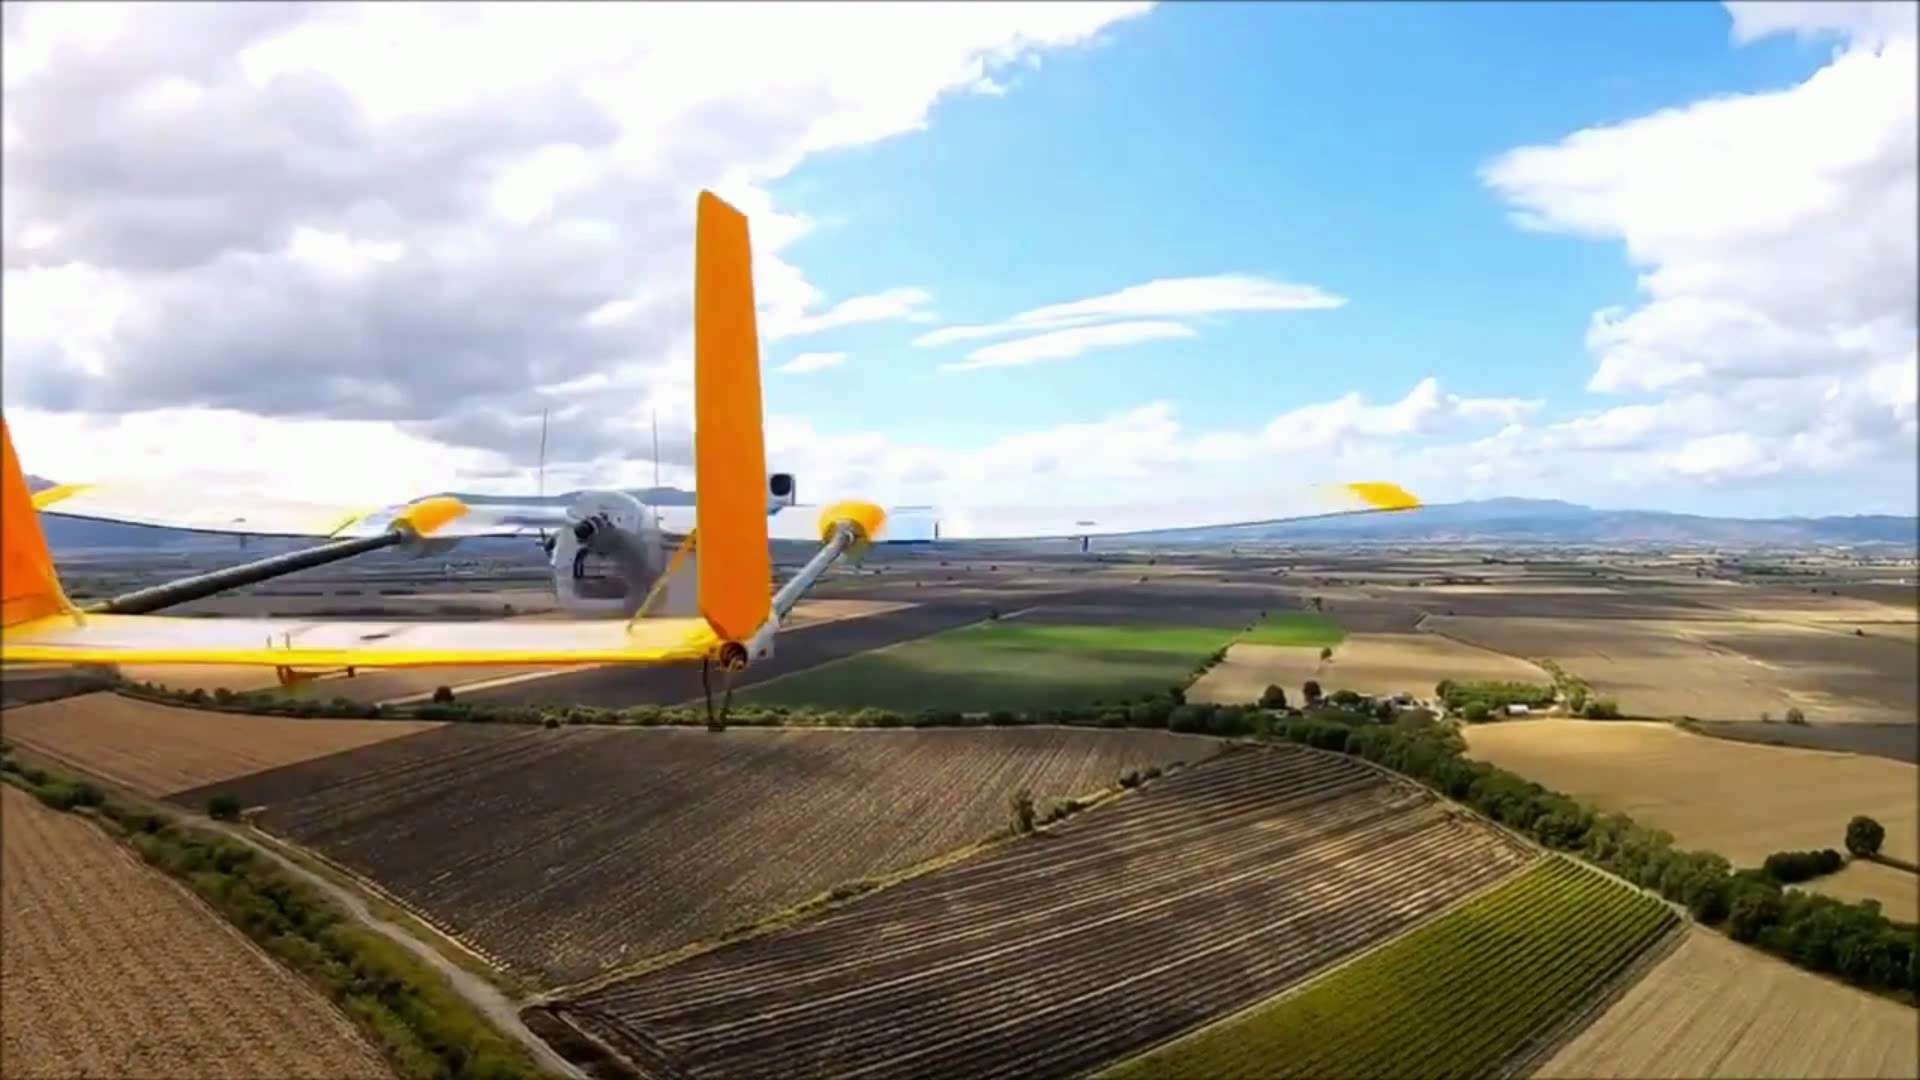airplane: (9, 187, 1424, 713)
